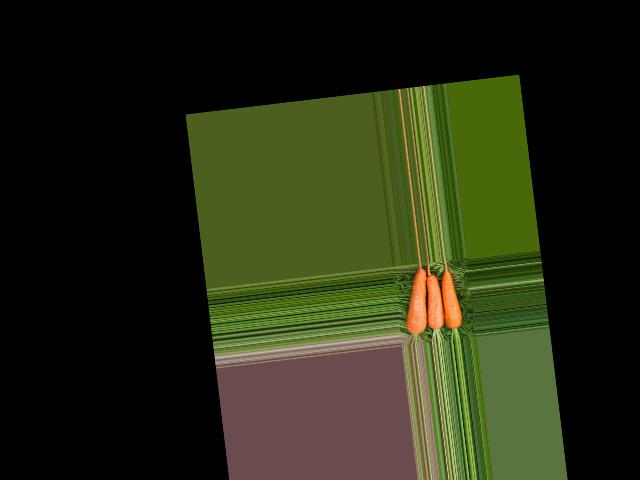carrot: (399, 267, 433, 336)
